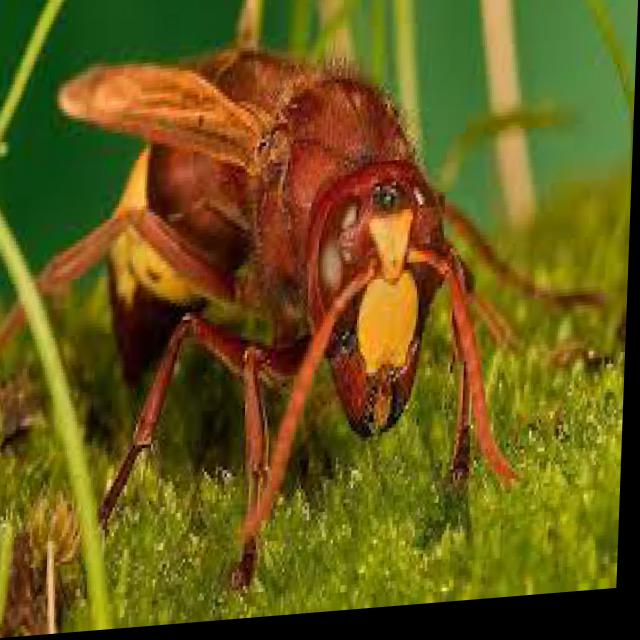Vespa Orientalis: (0, 0, 628, 622)
